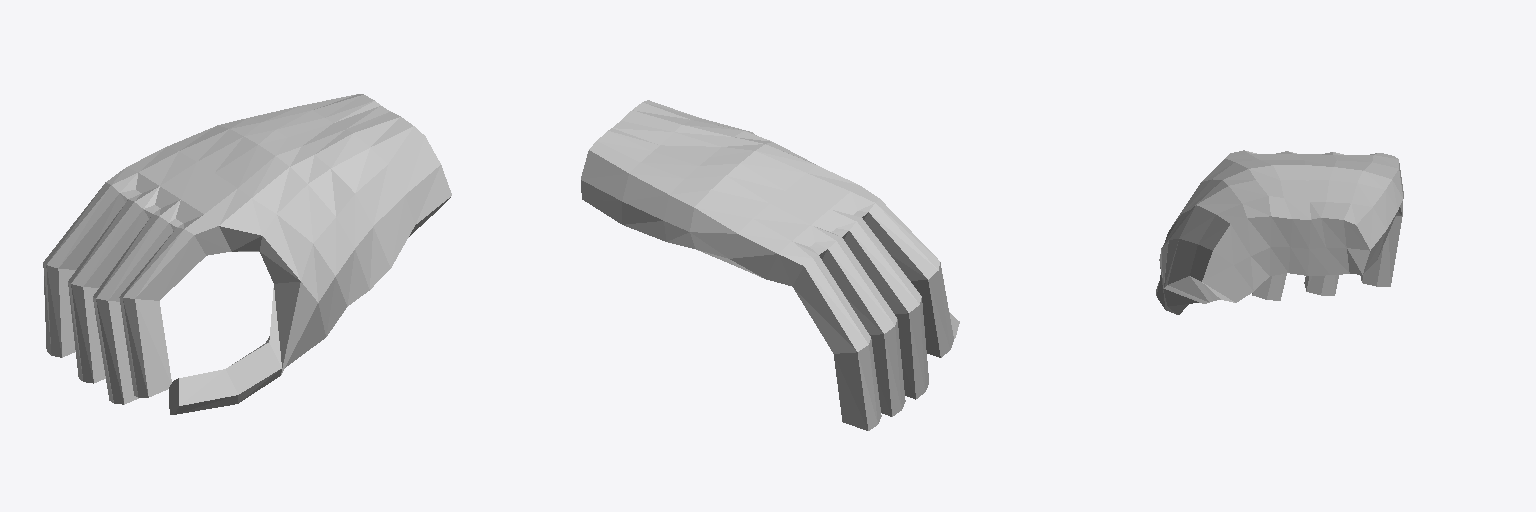
File: mano cerrada suavizada.obj
3 views of the same model, side by side, from view 1: azimuth 30°, elevation 25°; view 2: azimuth 150°, elevation 25°; view 3: azimuth 270°, elevation 25° (orthographic).
Visible parts, largest first — view 1: polySurface3 group1; view 2: polySurface3 group1; view 3: polySurface3 group1.
Part boxes in pixels (x1,y1,x2,y2): polySurface3 group1: (43,94,451,414); polySurface3 group1: (581,100,959,430); polySurface3 group1: (1156,150,1403,314).
Size of the model in its own units: 37.81 by 24.87 by 25.87.